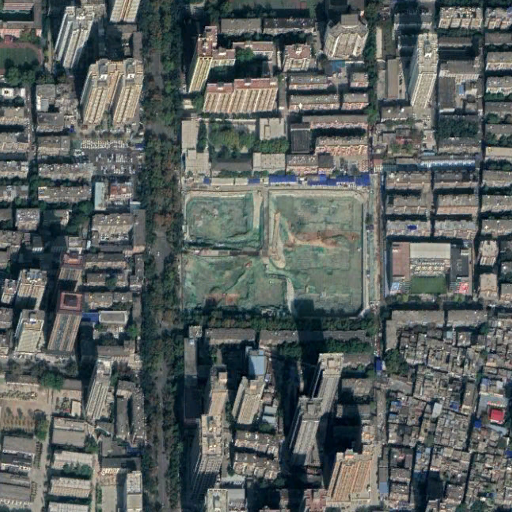cw: (181, 190, 369, 318)
